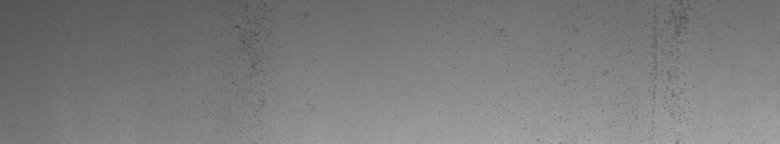ib: (232, 4, 310, 69)
